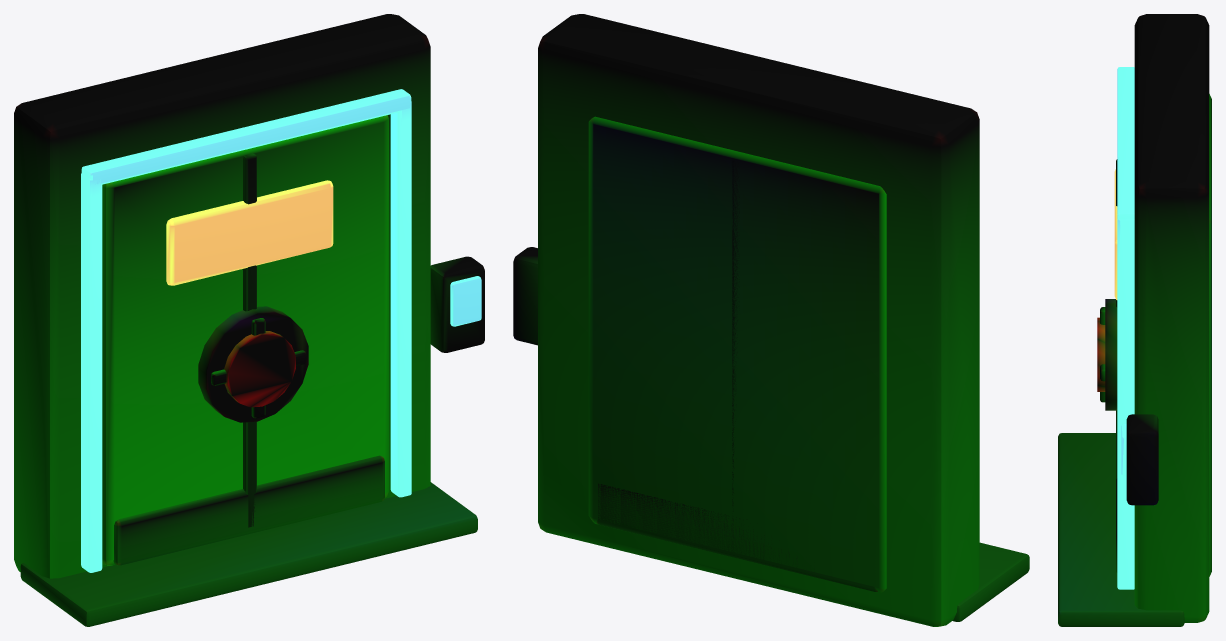
Rendered from hero_ship_return_hatch.glb.
3 renders of one model, left to right at view 1: azimuth 30°, elevation 25°; view 2: azimuth 150°, elevation 25°; view 3: azimuth 270°, elevation 25°, orthographic. The views are drawn at different scales.
Visible parts, largest first — view 1: HeroShipReturnHatch; view 2: HeroShipReturnHatch; view 3: HeroShipReturnHatch.
Boxes of the visible parts, box(x1,y1,x2,y2) form: HeroShipReturnHatch: box(14, 14, 484, 626); HeroShipReturnHatch: box(513, 14, 1029, 626); HeroShipReturnHatch: box(1058, 14, 1211, 626).
Size of the model in its own units: 3.56 by 3.65 by 1.16.
